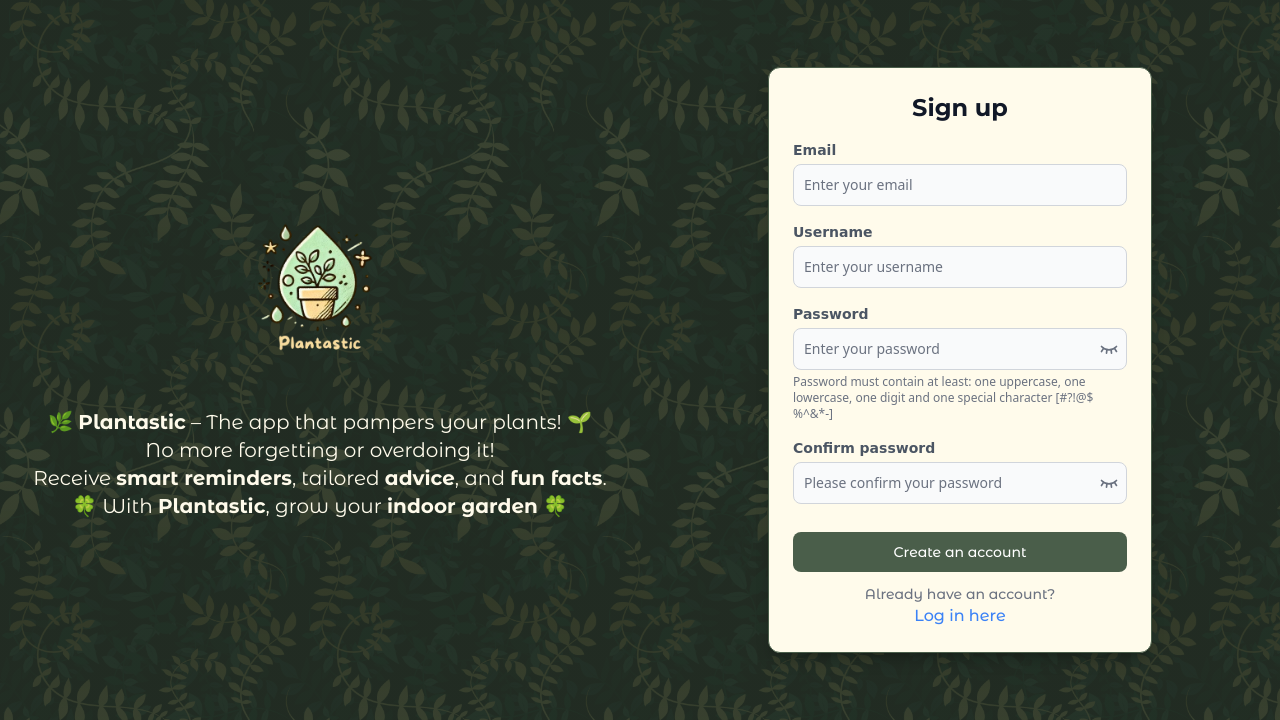
Test: should signup successfully
In the field with placeholder "Enter your email": (960,185) [793,164,1127,206], type "test@example.com"
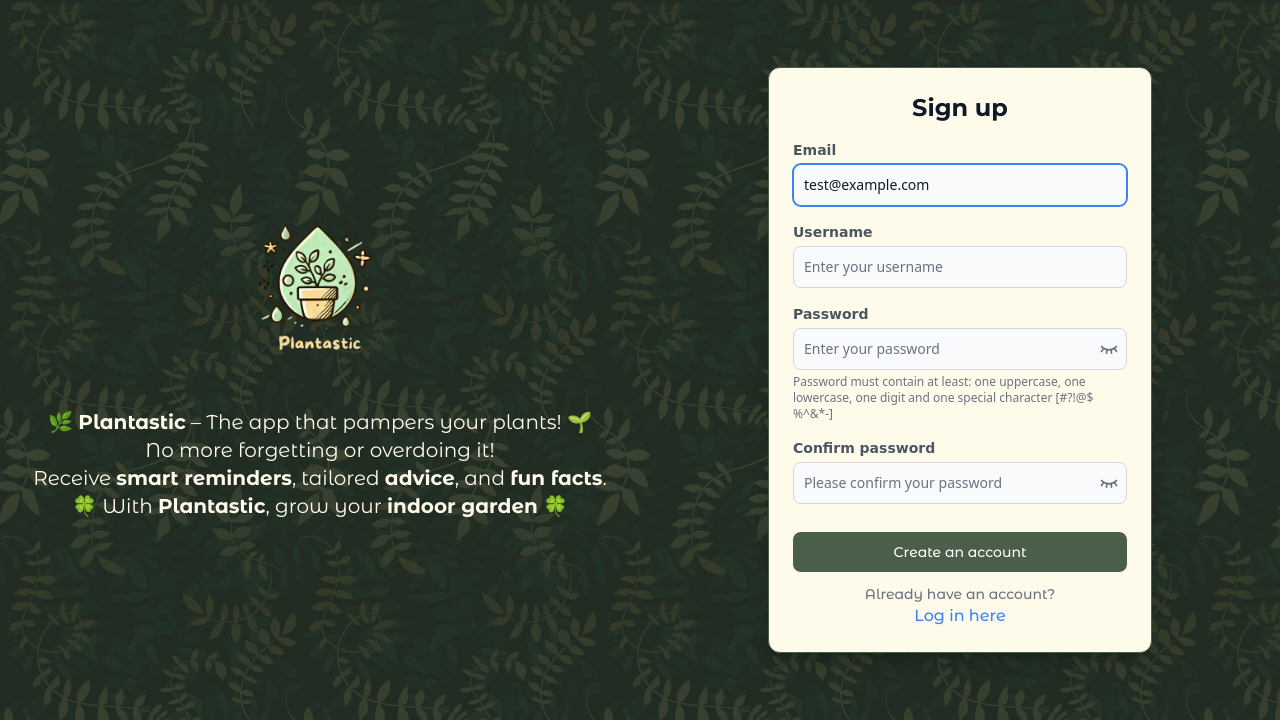
In the field with placeholder "Enter your username": (960,267) [793,246,1127,288], type "testuser"
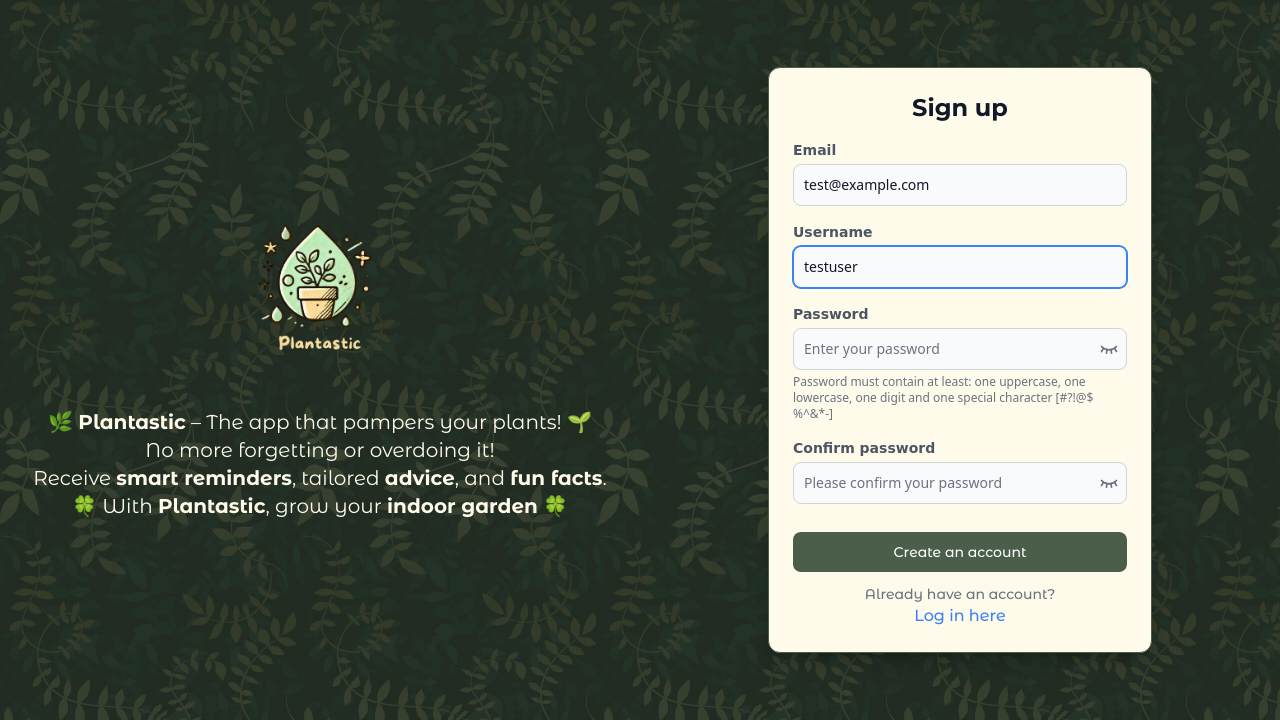
In the password field with placeholder "Enter your password": (960,349) [793,328,1127,370], type "Password123!"
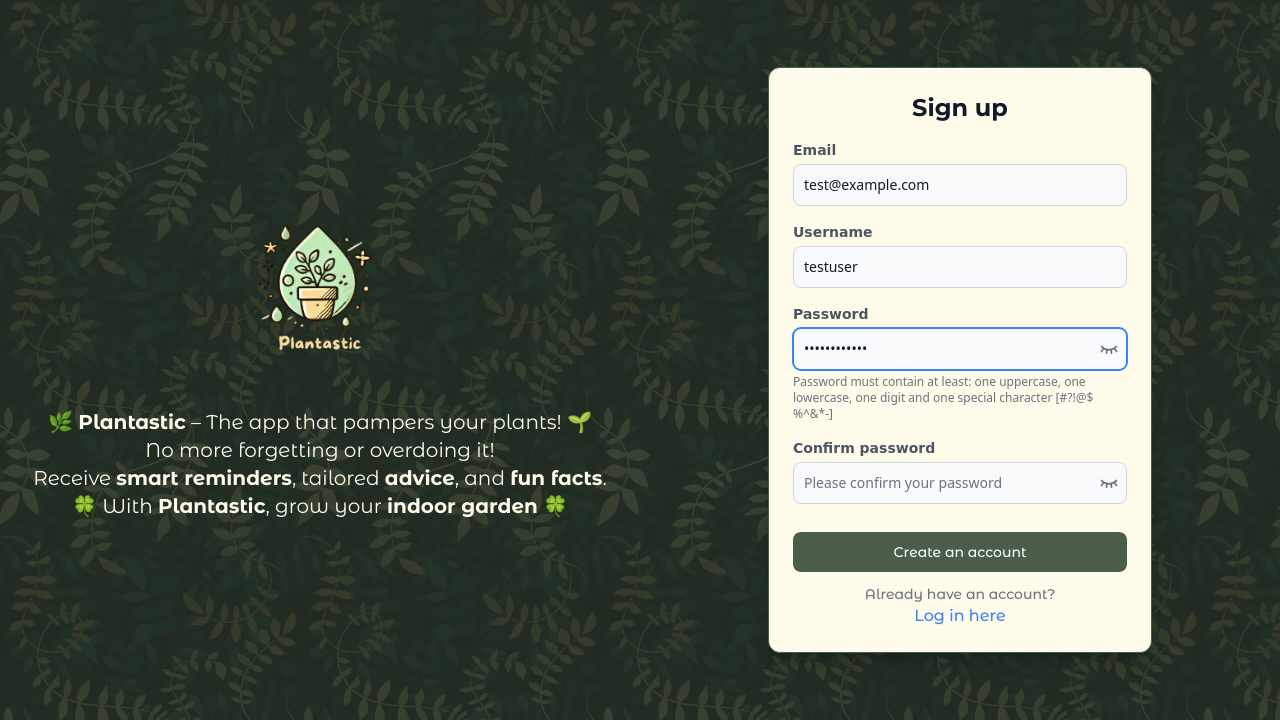
In the password field with placeholder "Please confirm your password": (960,483) [793,462,1127,504], type "Password123!"
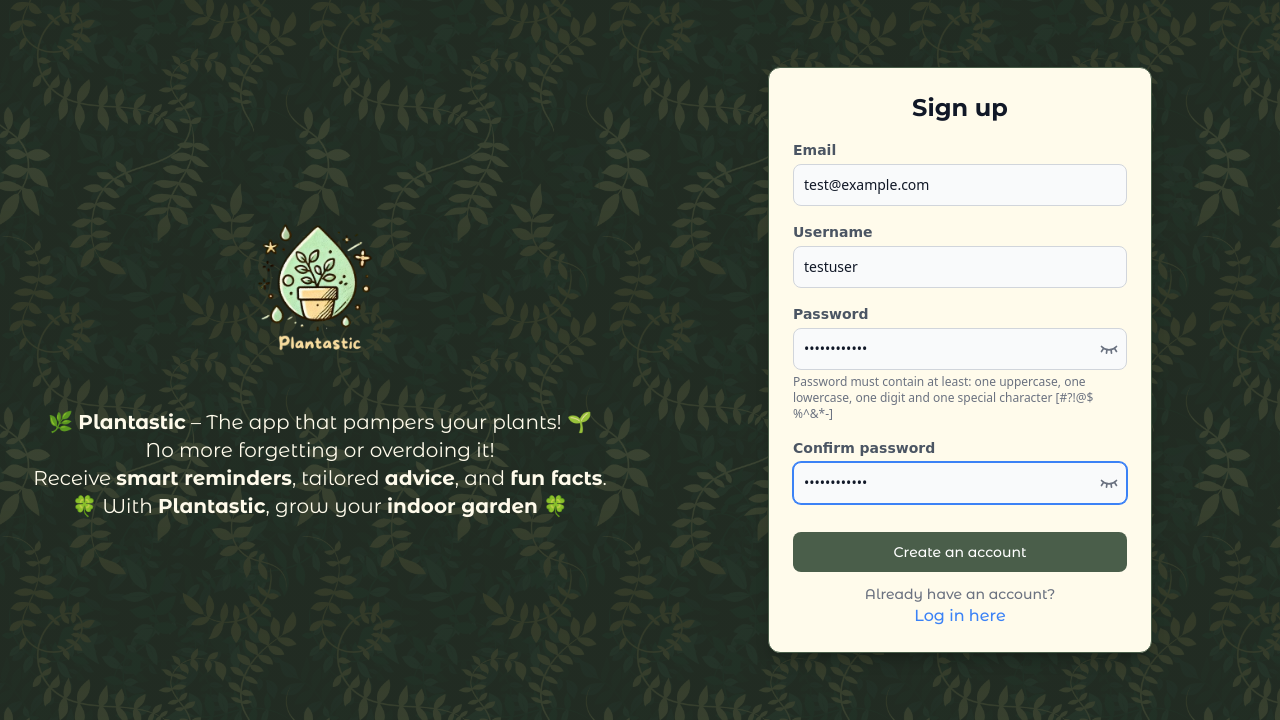
Click the button "Create an account": (960,552) [793,532,1127,572]
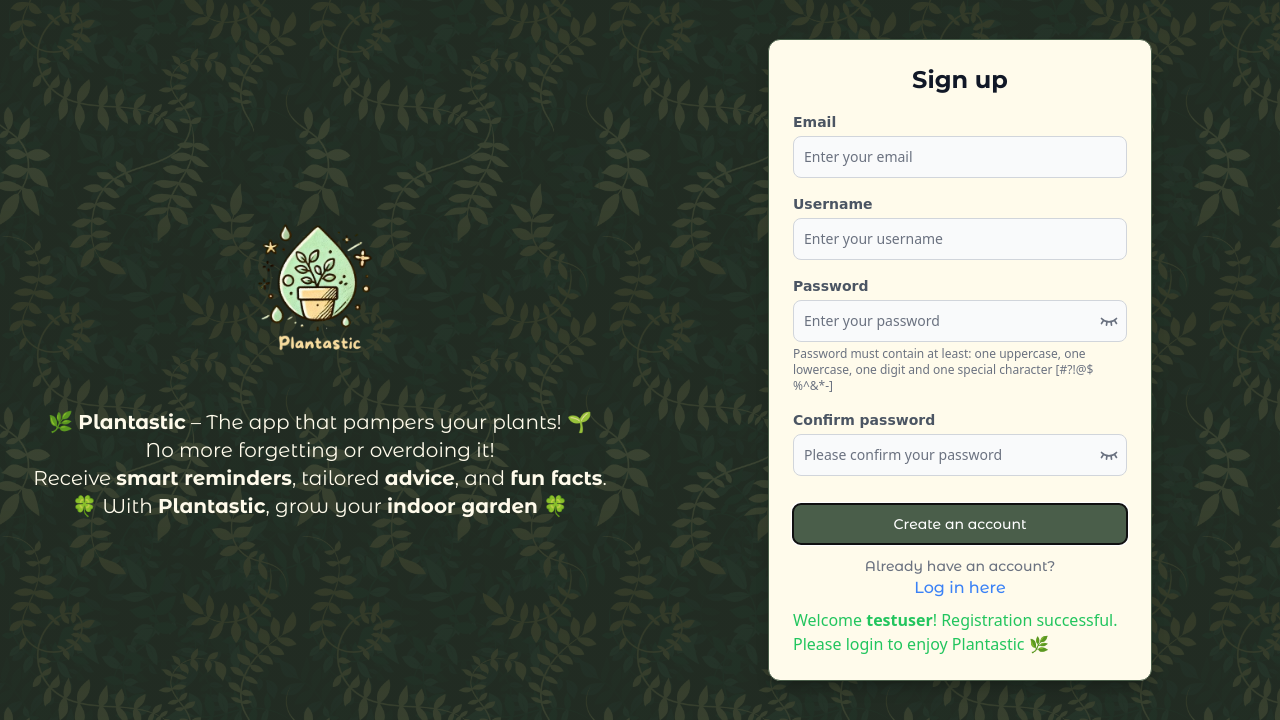
expect the text "Welcome testuser! Registration successful. Please login to enjoy Plantastic 🌿" is shown: met, box [793,608,1127,656]
expect the text "testuser" is shown: met, box [866,609,933,631]
